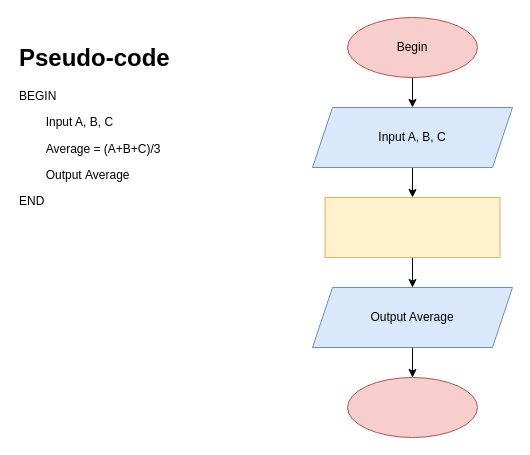
Some shapes in this 530 by 455 pixel diagram are drawn without their labels. The shapes that lost their labels are listed below. From the top down, each one's box as (x1, y1, x2, y2) in pixels, then its label:
(324, 196, 500, 258): Average = (A+B+C) / 3
(346, 376, 478, 438): End
